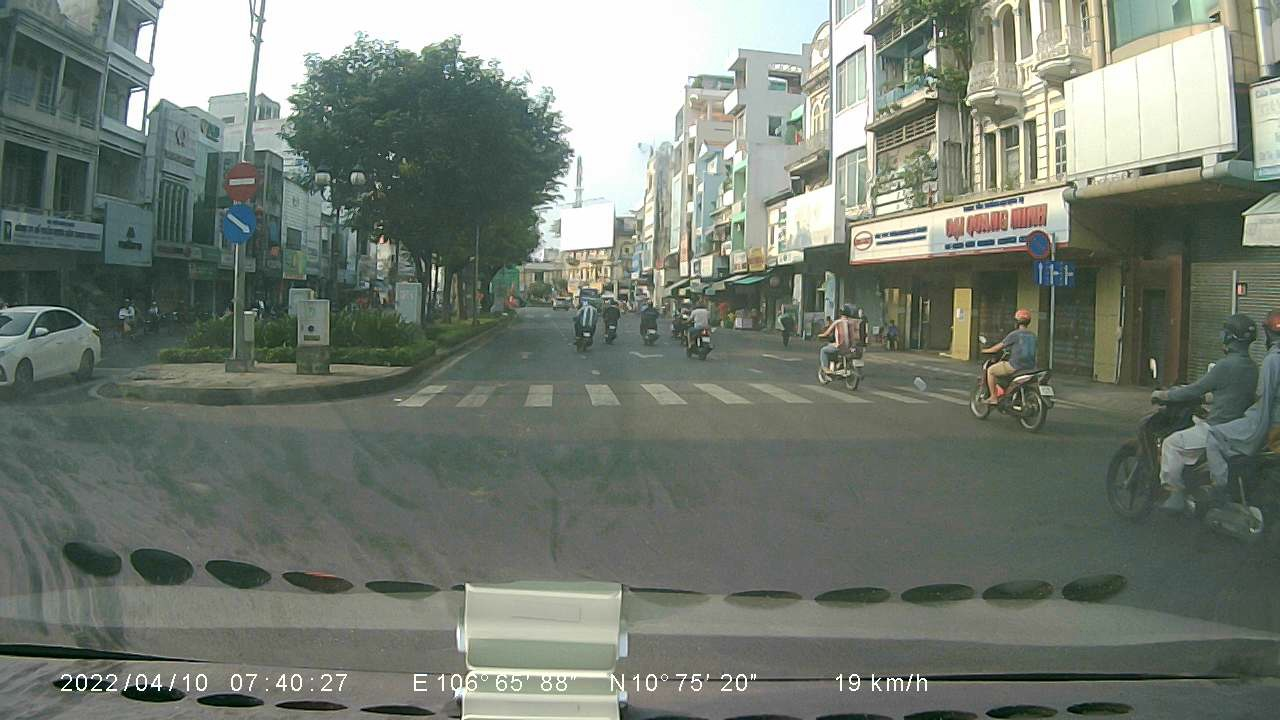Bien khac: (1034, 257, 1078, 289)
Cam di nguoc chieu: (218, 159, 261, 200)
Cam do xe: (1023, 226, 1051, 261)
Huong di phai re phai: (220, 202, 256, 247)
